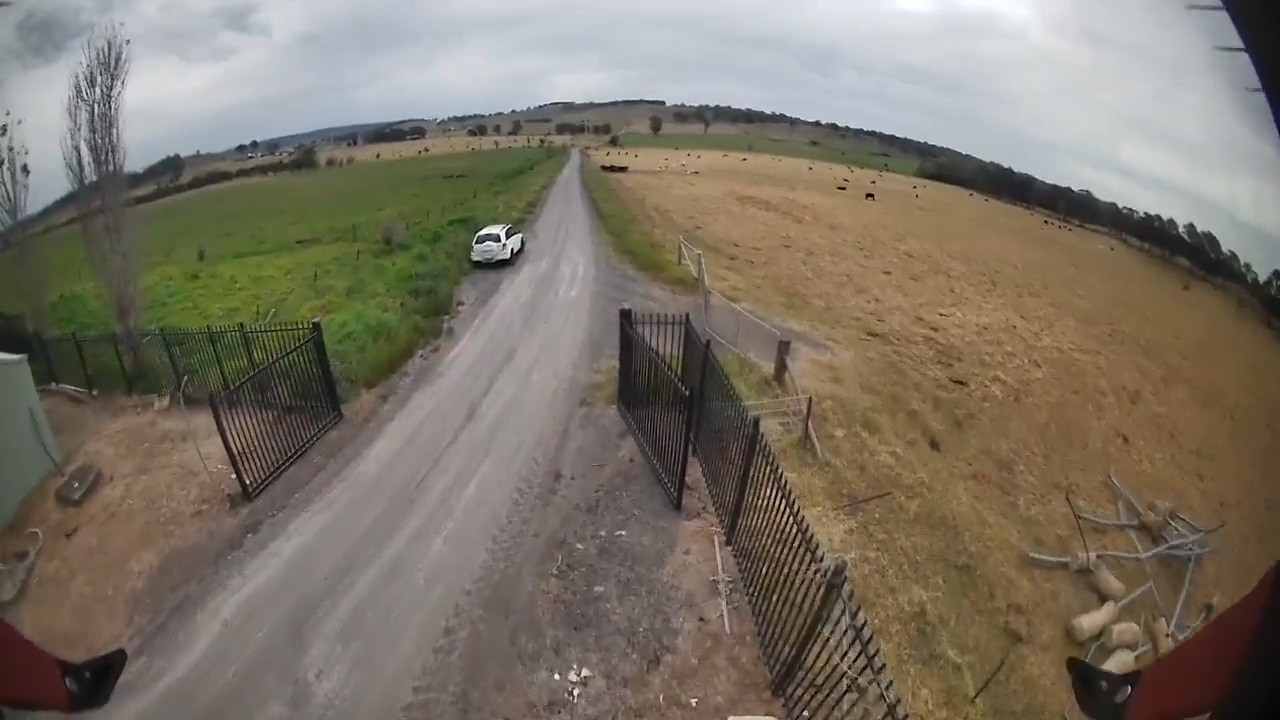Car: (470, 225, 525, 264)
